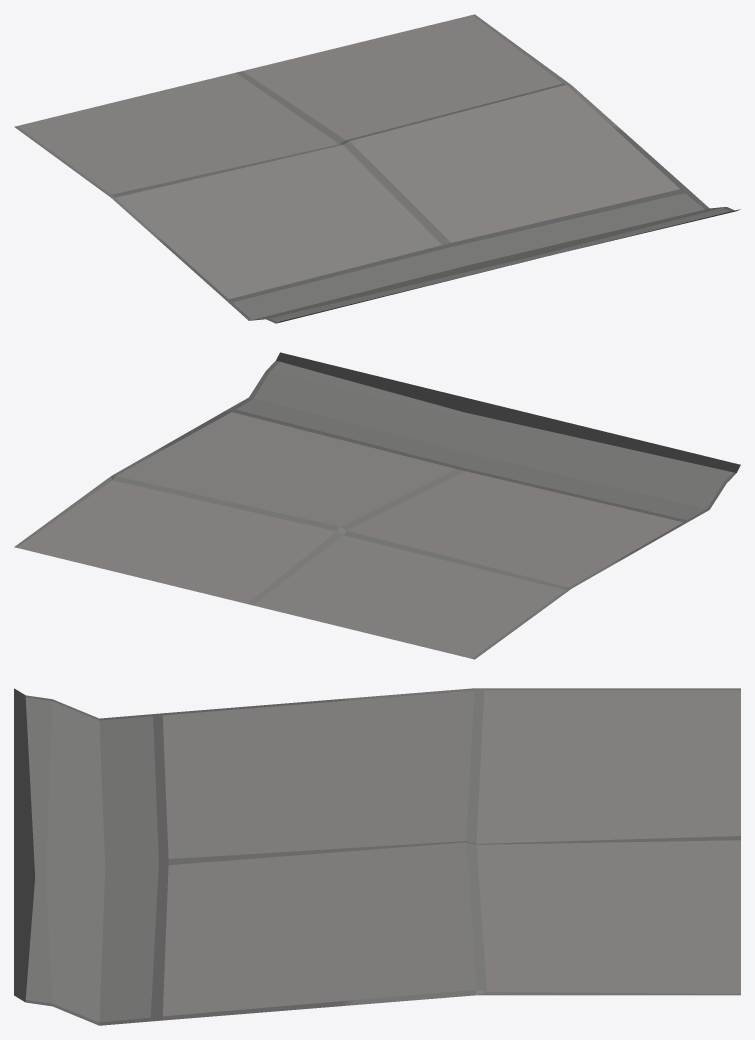
The model's file is SM_Env_Sidewalk_Driveway_02.fbx.
3 views of the same model, one above another, from view 1: azimuth 30°, elevation 25°; view 2: azimuth 150°, elevation 25°; view 3: azimuth 270°, elevation 25° (orthographic). The views are drawn at different scales.
Parts seen in each view (by area): view 1: SM_Env_Sidewalk_Driveway_02; view 2: SM_Env_Sidewalk_Driveway_02; view 3: SM_Env_Sidewalk_Driveway_02.
Part boxes in pixels (x1,y1,x2,y2): SM_Env_Sidewalk_Driveway_02: (14,14,740,323); SM_Env_Sidewalk_Driveway_02: (14,352,740,659); SM_Env_Sidewalk_Driveway_02: (14,688,740,1025).
Size of the model in its own units: 500 by 24.93 by 500.
